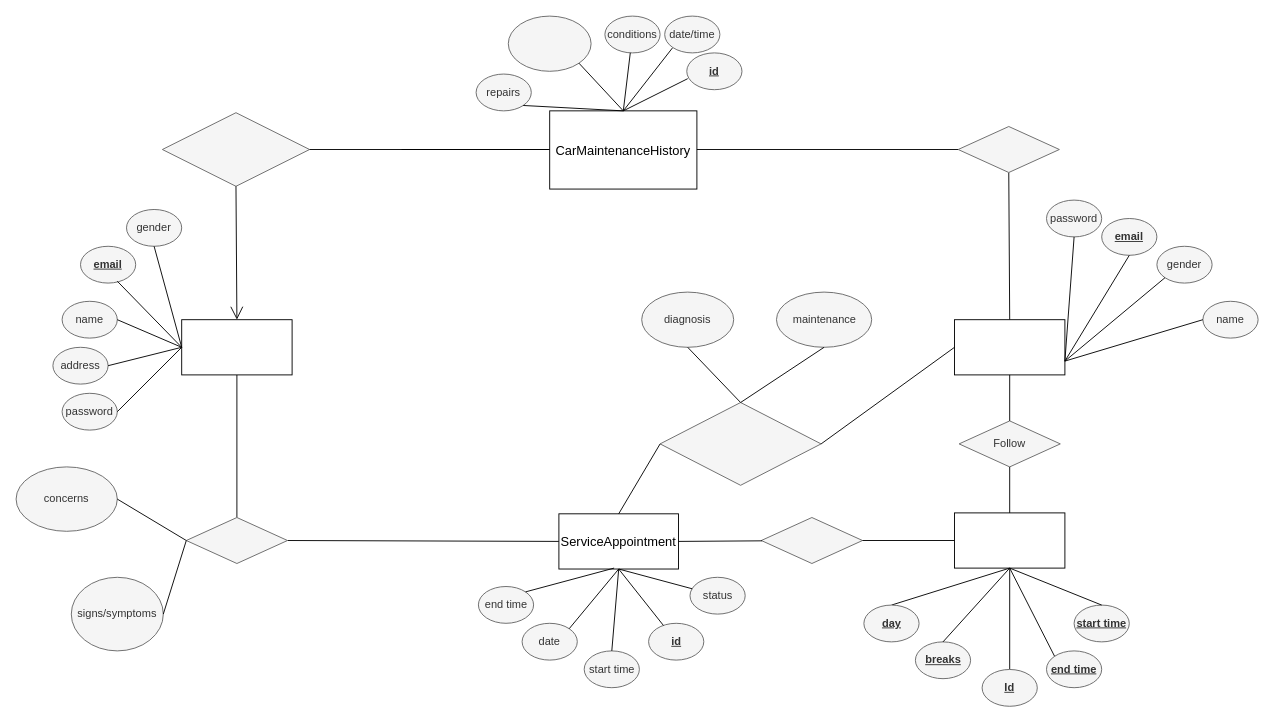
Image size: 1274x723. Some labels were removed from this diagram. The box of each missing label's shape, as (x1, y1, x2, y2) in pixels:
attend: (185, 517, 288, 564)
CarOwner: (181, 319, 292, 375)
Correspond: (760, 517, 862, 564)
Give: (161, 112, 310, 186)
Maintenance Assignment: (659, 402, 821, 485)
Mechanic: (954, 319, 1065, 375)
parts_replaced: (507, 15, 591, 71)
See/Update: (957, 126, 1059, 172)
ServiceSchedule: (954, 512, 1065, 568)
